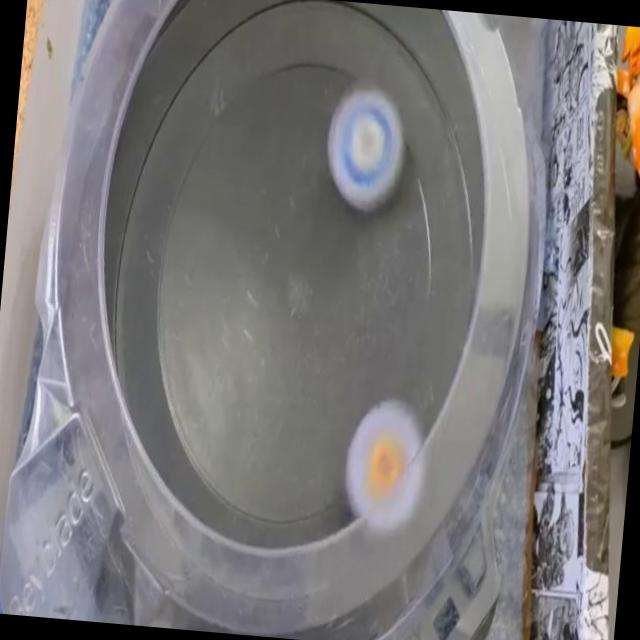Beyblade: (340, 396, 432, 541), (322, 86, 409, 216)
